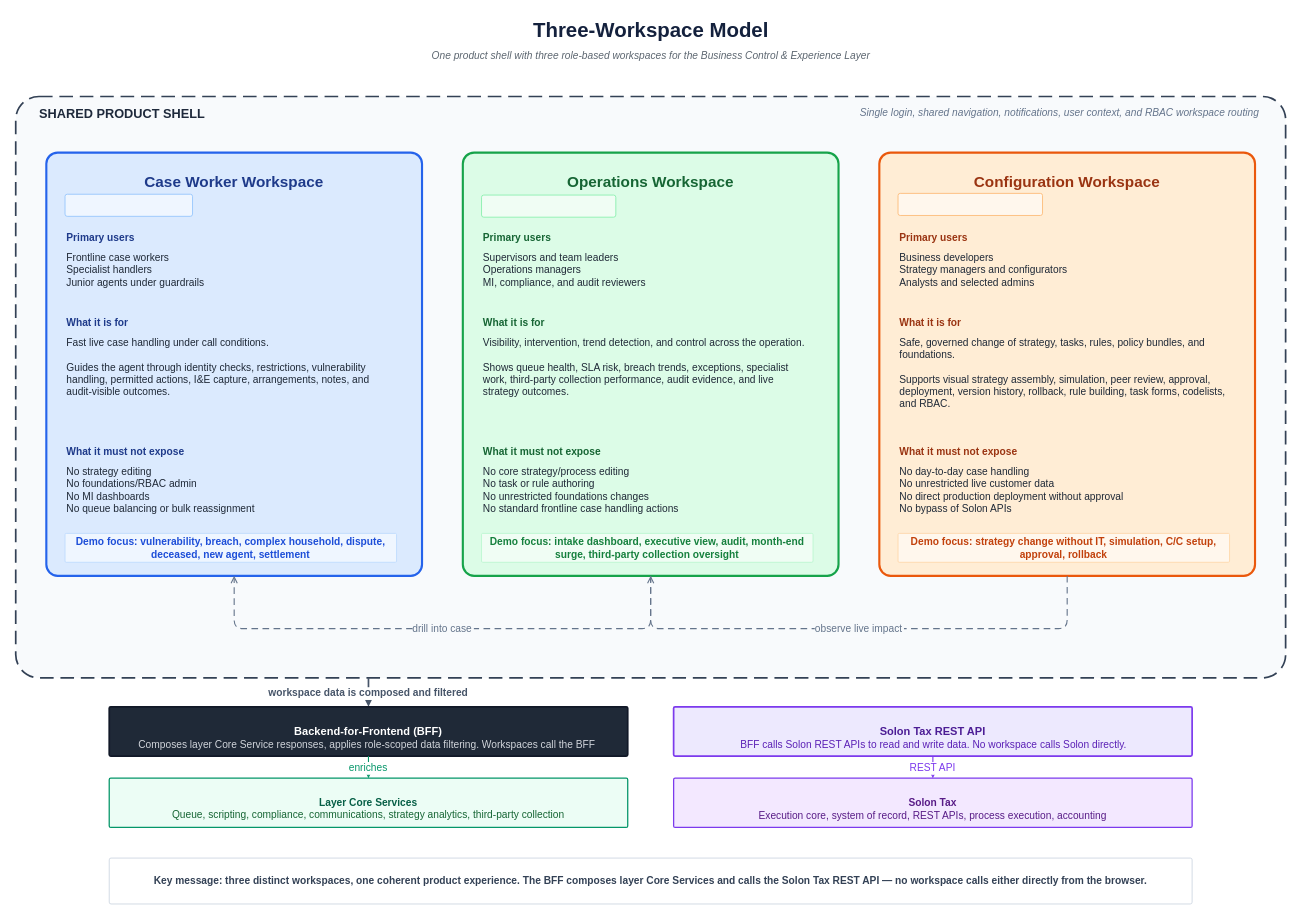
This 1301x919 diagram has some shape labels left out. Here are the shapes that lost their labels. From the top down, the centre of each, then its label:
At [128,204]: "Runtime experience".
At [548,205]: "Oversight experience".
At [970,204]: "Control-plane experience".
